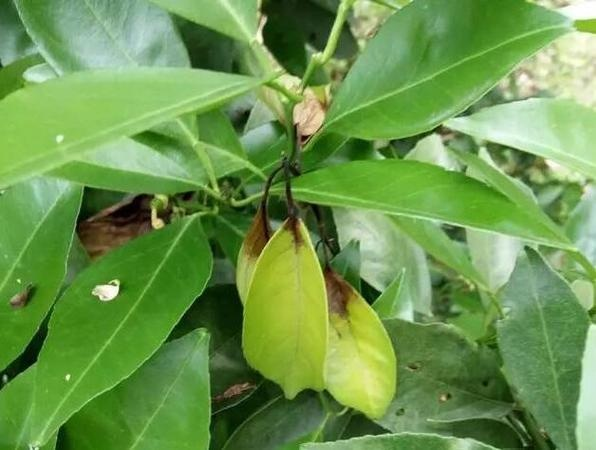Anthracnose: (250, 191, 322, 295), (308, 228, 378, 316)
